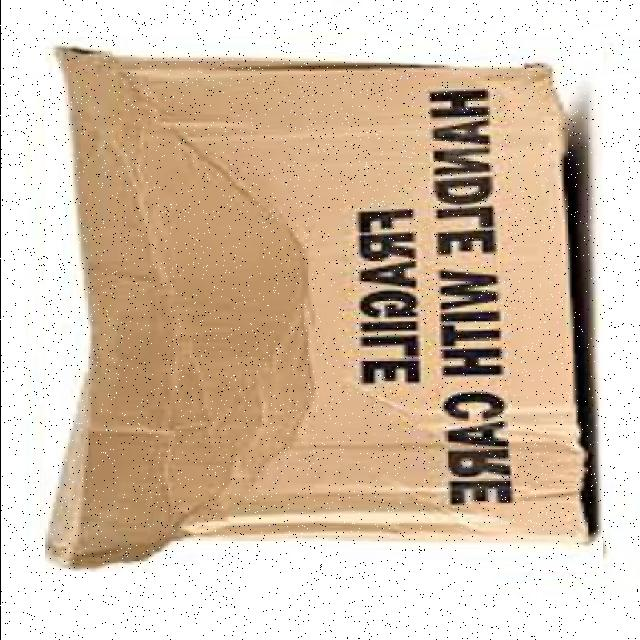defect: (44, 36, 602, 572)
